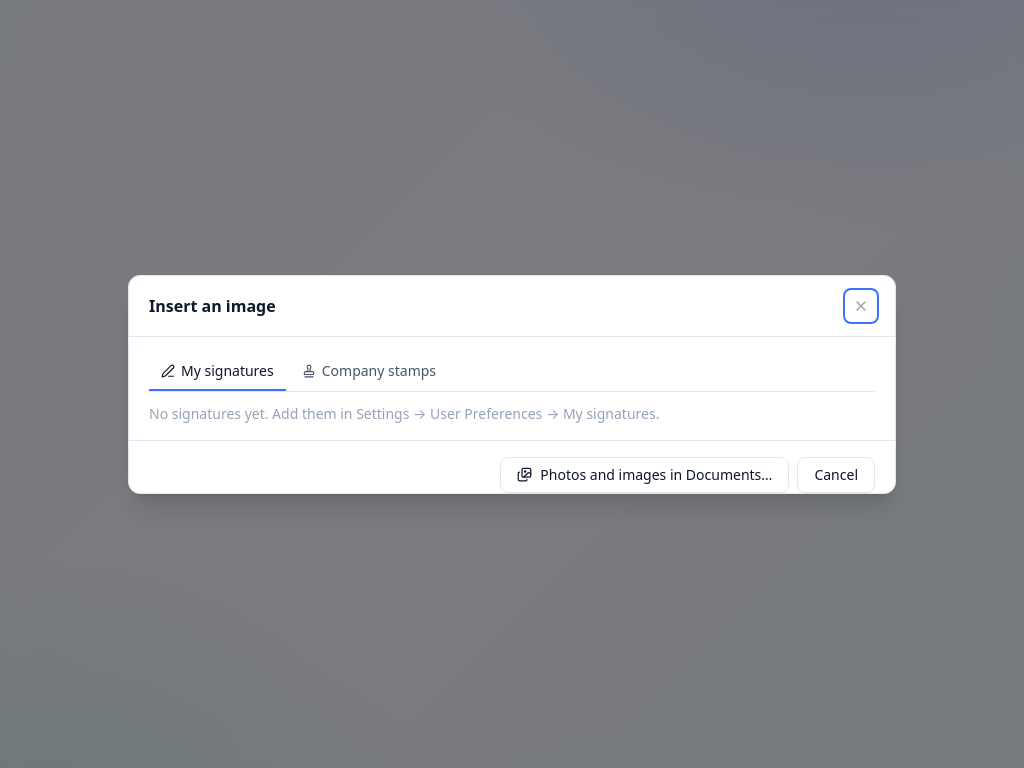
Scenario: InsertImagePicker › points to where signatures and stamps are added when there are none
Expected: the text "Settings → User Preferences → My signatures" is shown, top-left (149, 404), bottom-right (659, 422)
Click the tab "Company stamps": (369, 372) top-left (290, 352), bottom-right (448, 390)
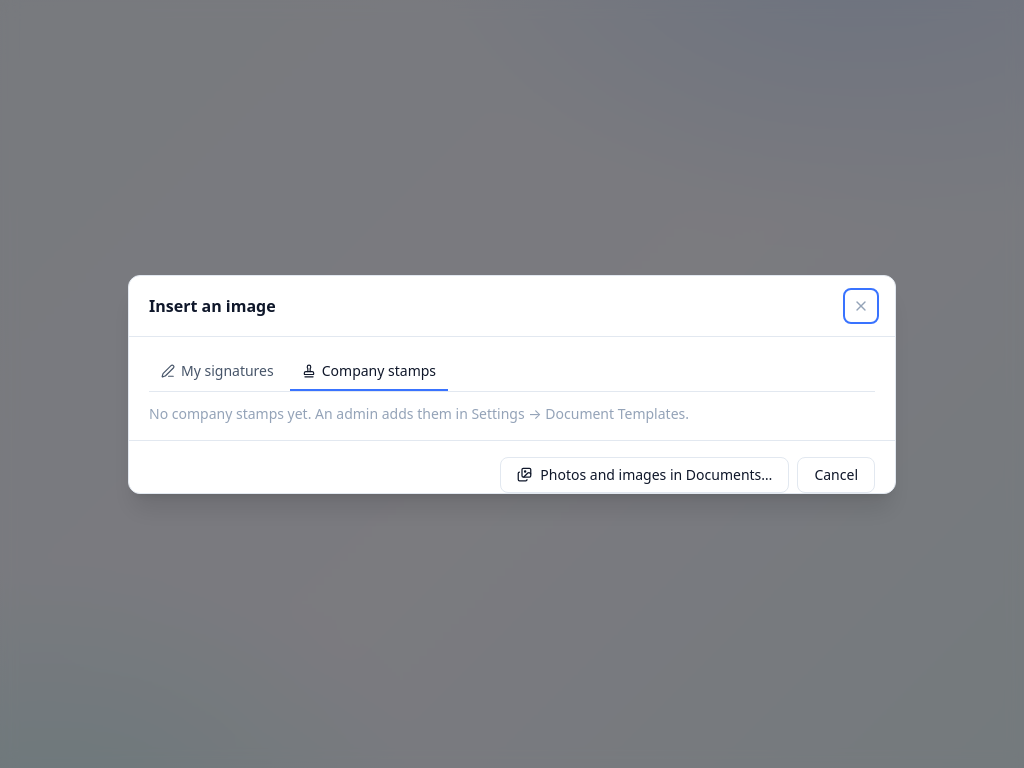
Expected: the text "Settings → Document Templates" is shown, top-left (149, 404), bottom-right (689, 422)
